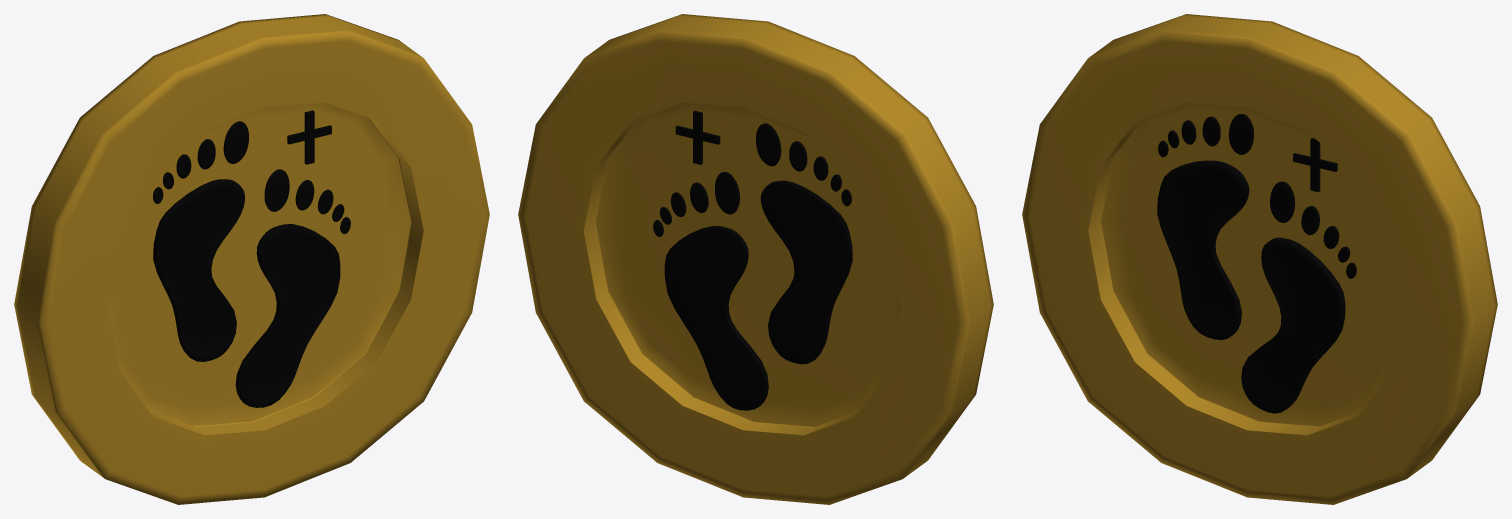
The model's file is Medallon.fbx.
The picture shows the model from 3 angles, left to right: view 1: azimuth 30°, elevation 25°; view 2: azimuth 150°, elevation 25°; view 3: azimuth 330°, elevation 25°; orthographic projection.
Visible parts, largest first — view 1: Medallón; view 2: Medallón; view 3: Medallón.
Boxes of the visible parts, x1=… form: Medallón: x1=14, y1=14, x2=489, y2=504; Medallón: x1=518, y1=14, x2=993, y2=504; Medallón: x1=1022, y1=14, x2=1497, y2=504.
Size of the model in its own units: 1.01 by 0.9855 by 0.1073.
